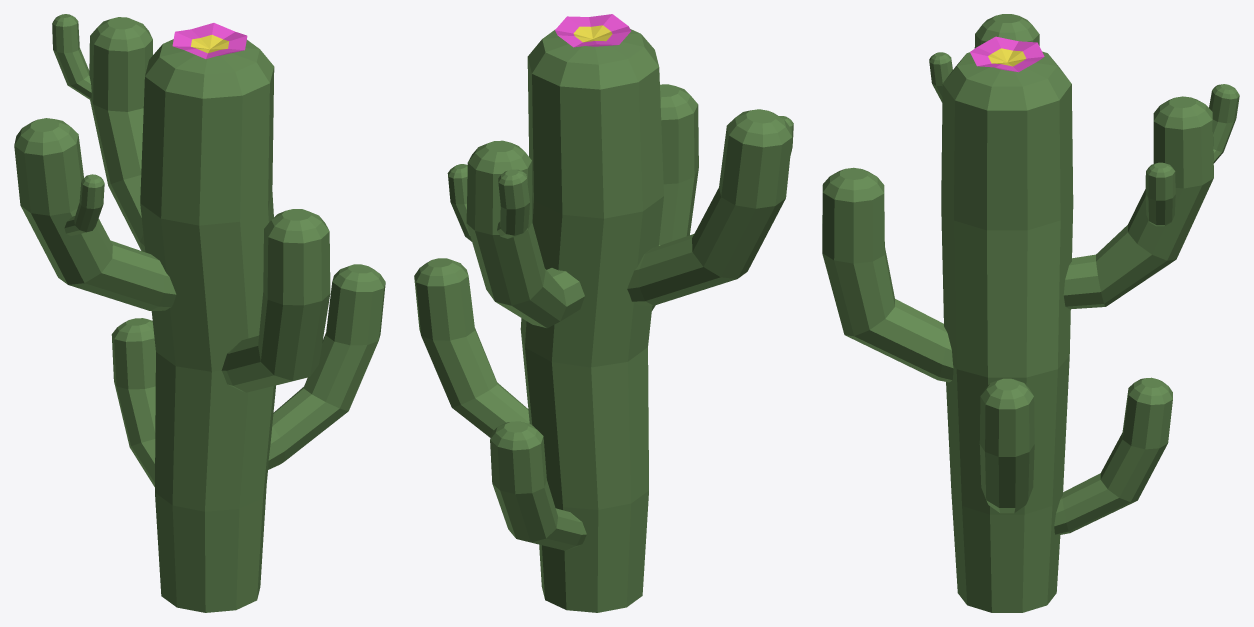
Rendered from CactusLarge.fbx.
3 renders of one model, left to right at view 1: azimuth 30°, elevation 25°; view 2: azimuth 150°, elevation 25°; view 3: azimuth 270°, elevation 25°, orthographic. The views are drawn at different scales.
Visible parts, largest first — view 1: Cylinder; view 2: Cylinder; view 3: Cylinder.
Part boxes in pixels (<box>): Cylinder: <box>14,14,385,612</box>; Cylinder: <box>414,14,793,612</box>; Cylinder: <box>822,14,1239,612</box>.
Bounding box in the file's own units: 590 × 861 × 603.
